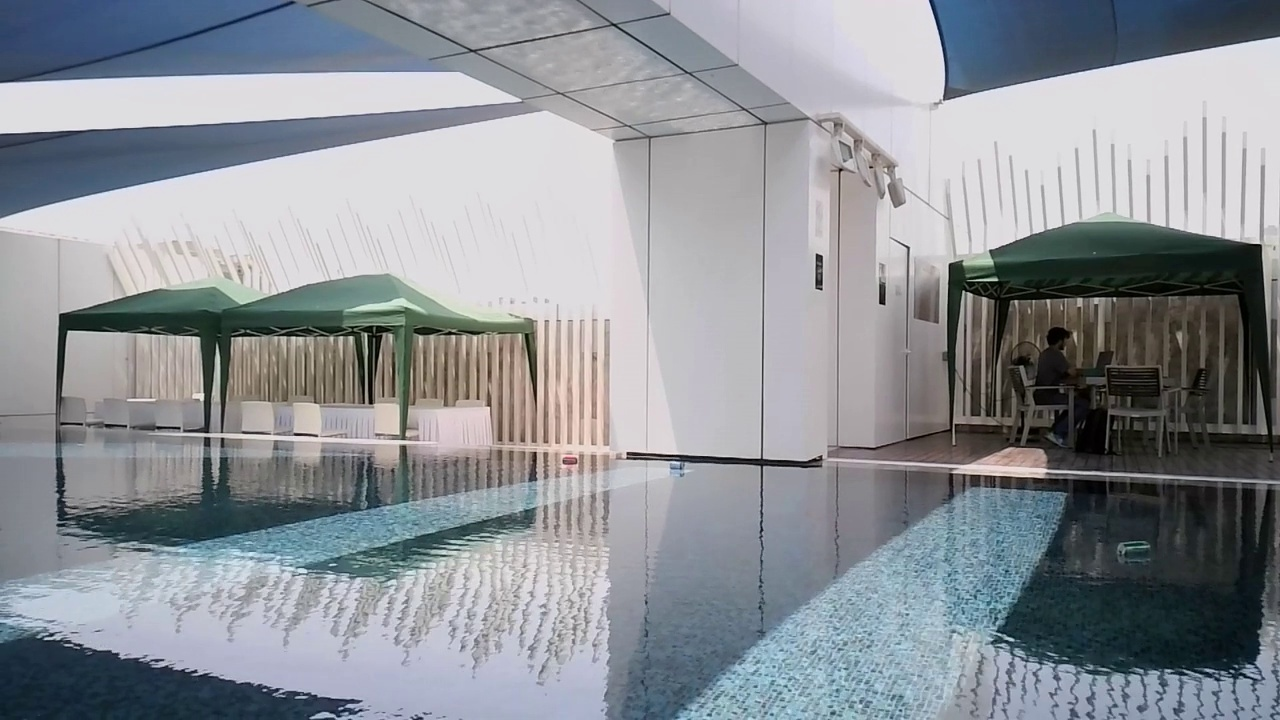debris: (1112, 534, 1155, 567), (558, 451, 583, 471), (662, 457, 688, 475)
